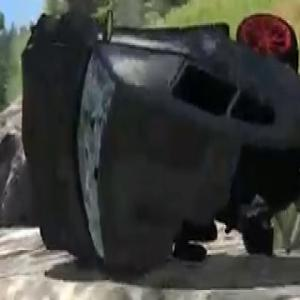fatal: (16, 0, 300, 285)
